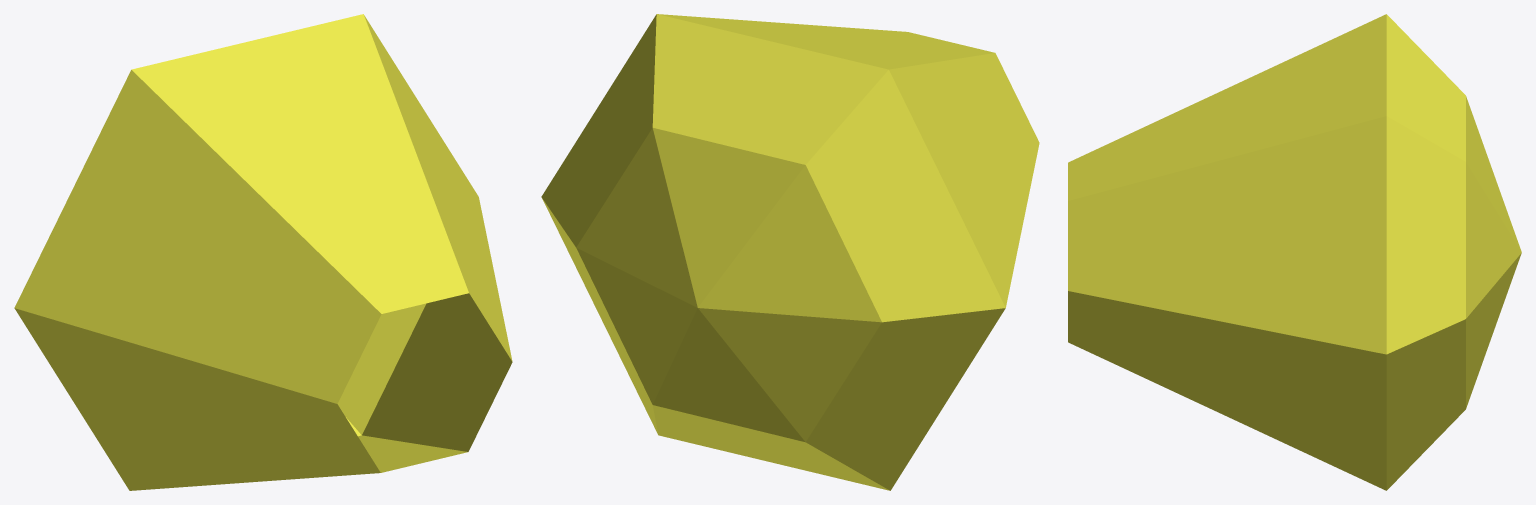
Rendered from coneShape.fbx.
3 renders of one model, left to right at view 1: azimuth 30°, elevation 25°; view 2: azimuth 150°, elevation 25°; view 3: azimuth 270°, elevation 25°, orthographic. The views are drawn at different scales.
Parts seen in each view (by area): view 1: attackCone01; view 2: attackCone01; view 3: attackCone01.
Boxes of the visible parts, x1=… form: attackCone01: x1=14, y1=14, x2=512, y2=490; attackCone01: x1=541, y1=14, x2=1039, y2=490; attackCone01: x1=1068, y1=14, x2=1521, y2=490.
Size of the model in its own units: 1.99 by 1.73 by 1.89.
